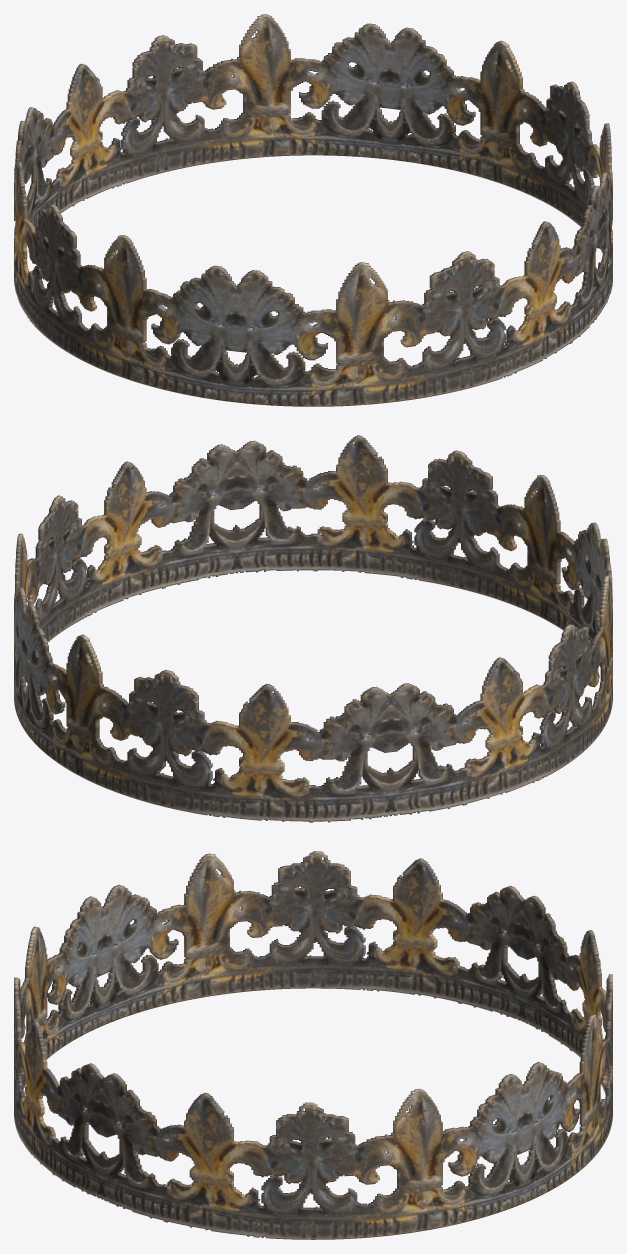
File: Krone_26152.glb
3 views of the same model, one above another, from view 1: azimuth 30°, elevation 25°; view 2: azimuth 150°, elevation 25°; view 3: azimuth 270°, elevation 25° (orthographic).
Parts seen in each view (by area): view 1: Krone; view 2: Krone; view 3: Krone.
Part boxes in pixels (x1,y1,x2,y2): Krone: (14,14,612,406); Krone: (14,435,612,822); Krone: (14,851,612,1239).
Size of the model in its own units: 0.1712 by 0.0444 by 0.1712.
Materials: 1 (1 with a texture image).
